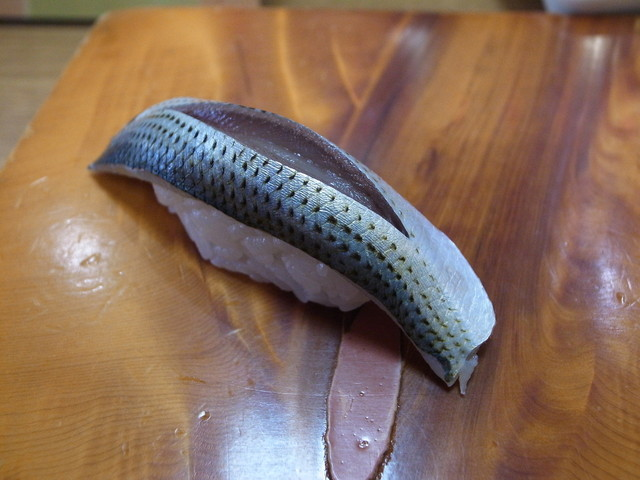spotted-shad: (83, 94, 499, 396)
